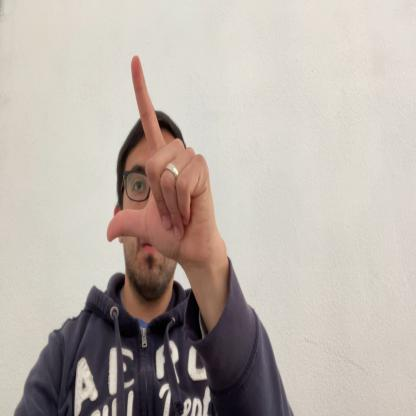L: (107, 53, 215, 268)
